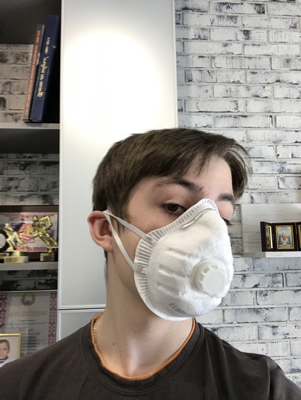with_mask: (121, 174, 236, 323)
